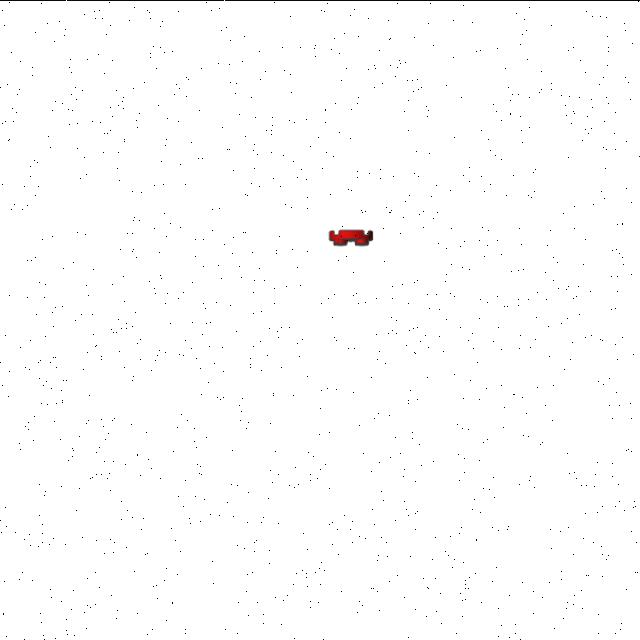4032a: (326, 224, 378, 247)
